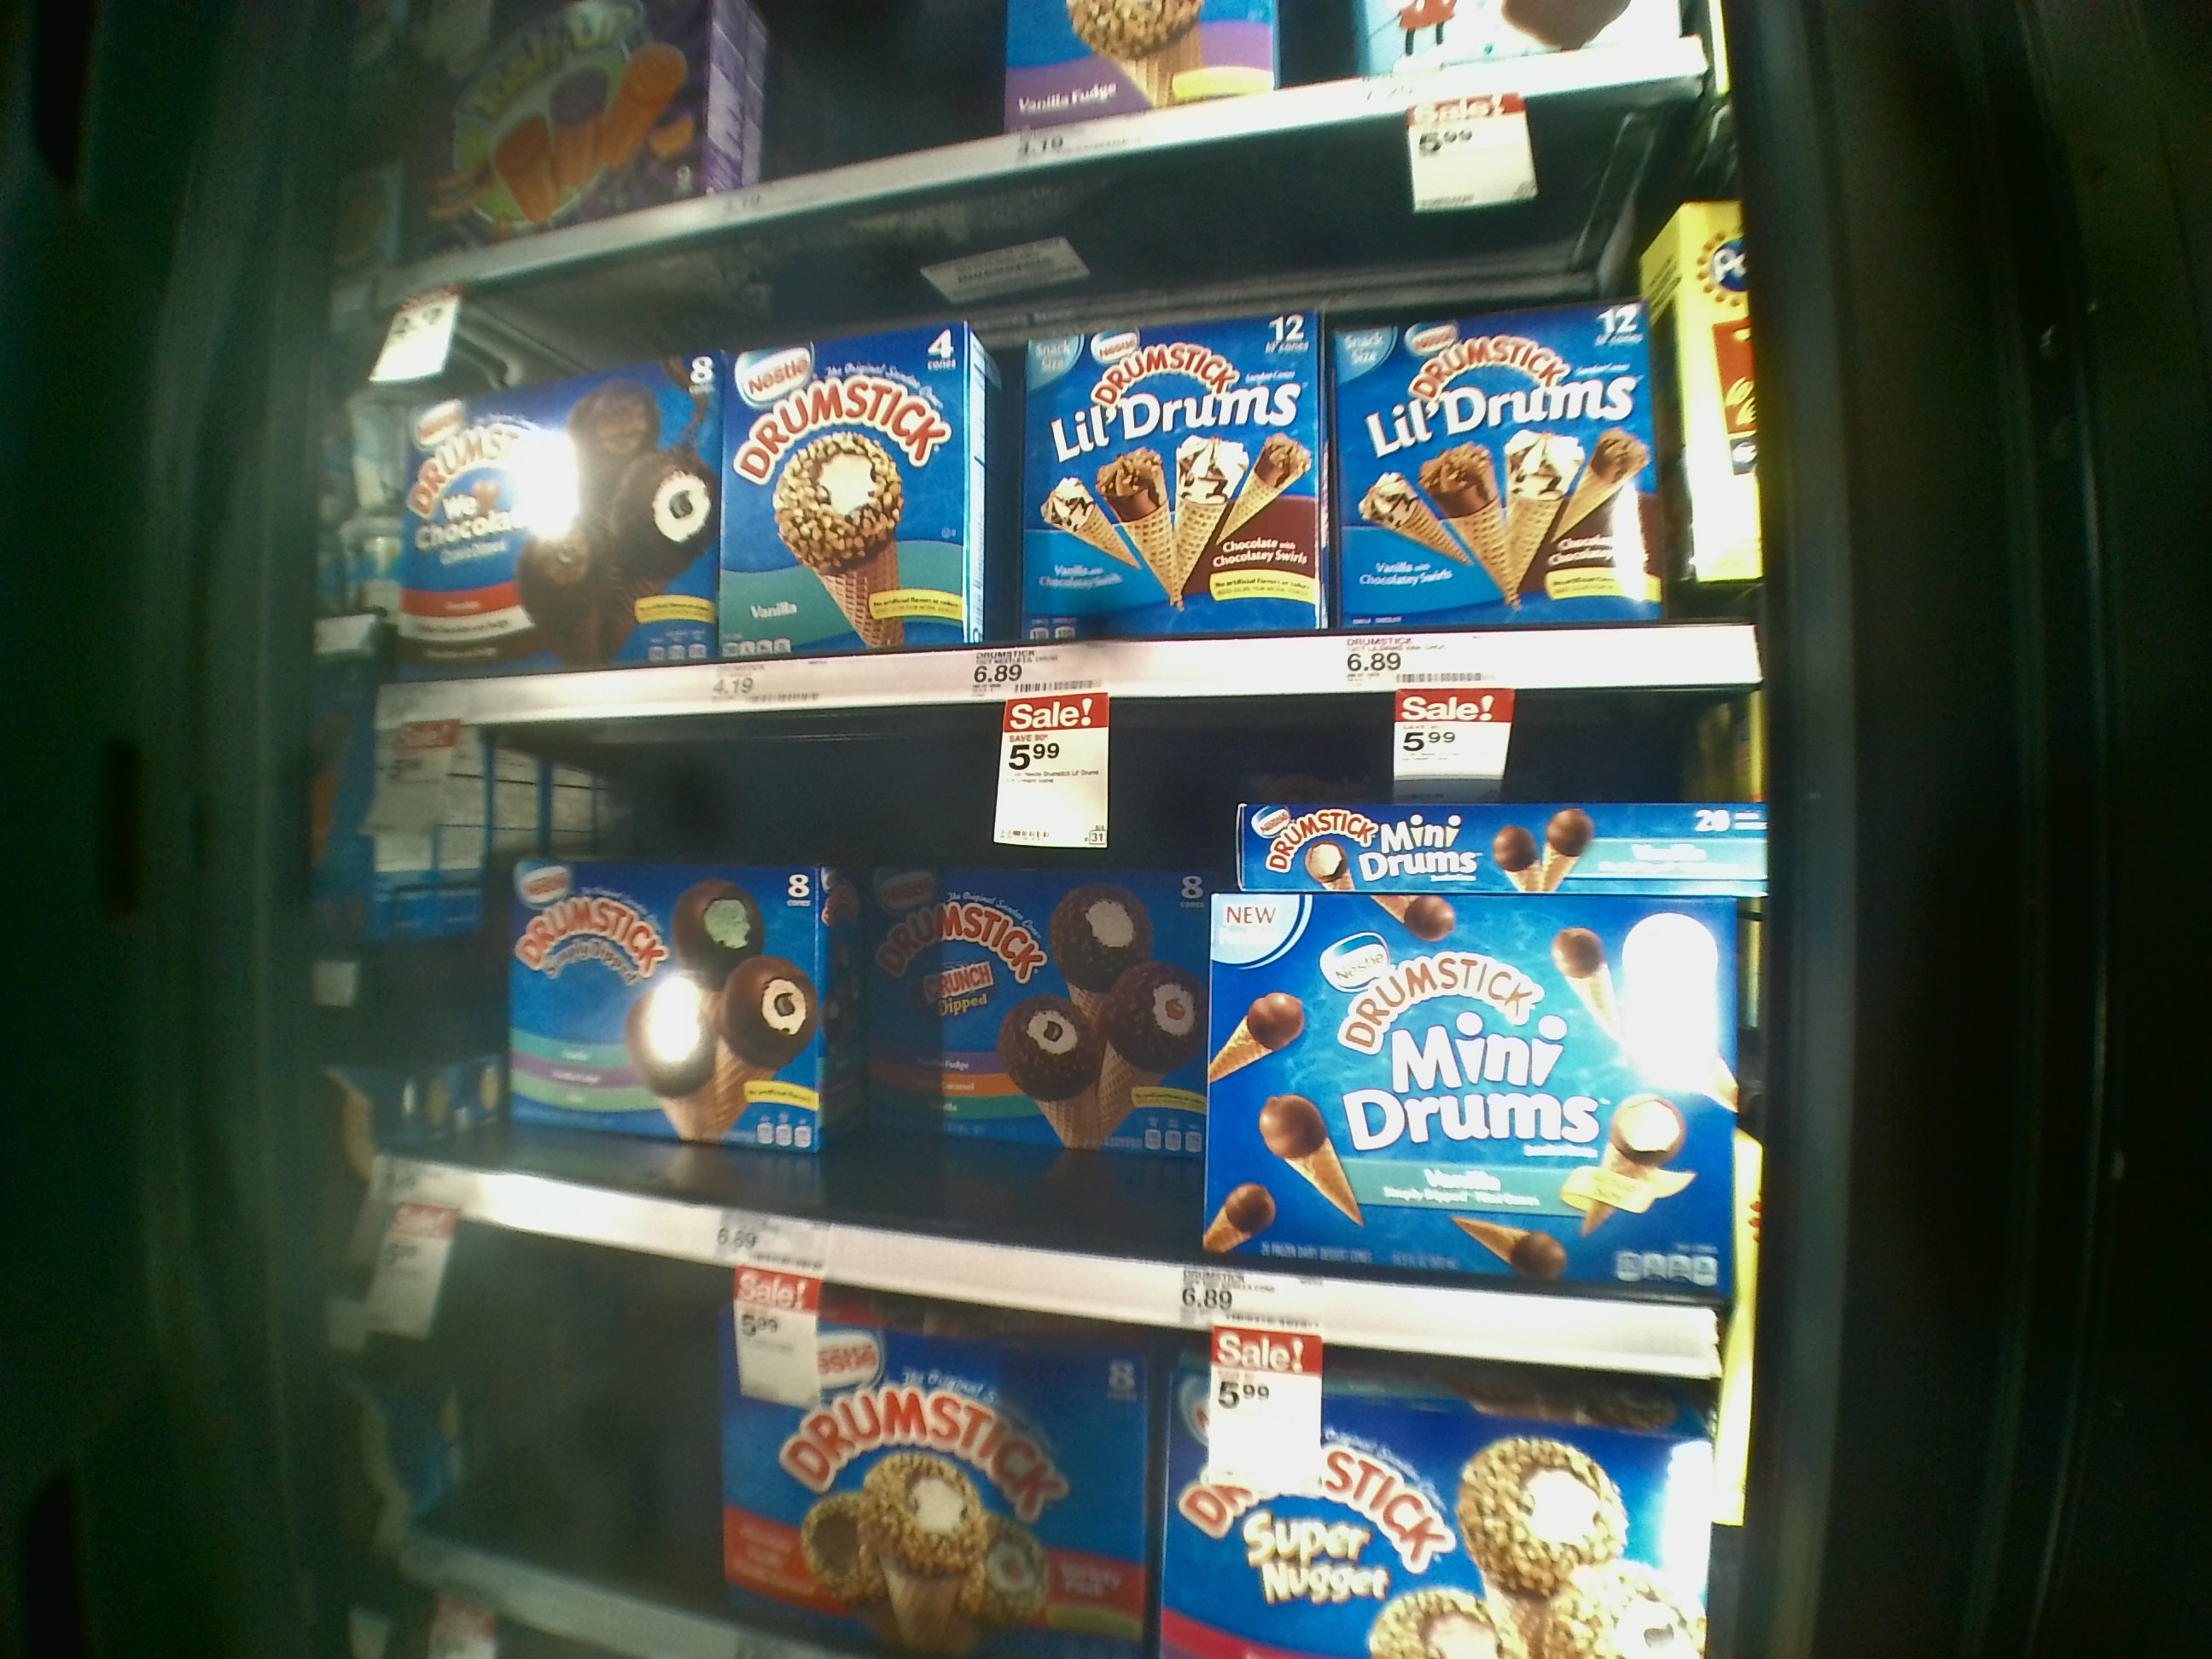shelf: (355, 687, 1766, 1391), (336, 125, 1752, 718)
